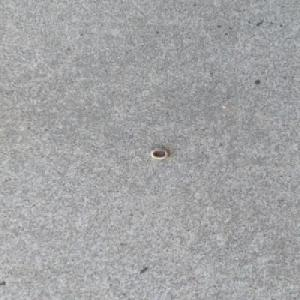Nut: (149, 147, 170, 160)
